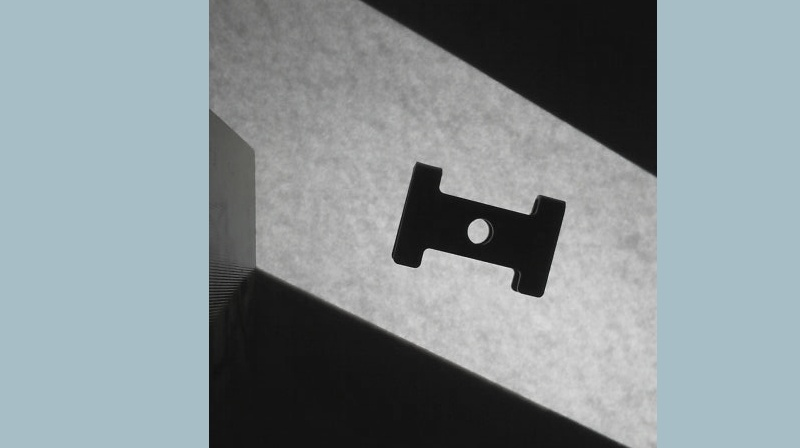O002: (388, 159, 568, 302)
